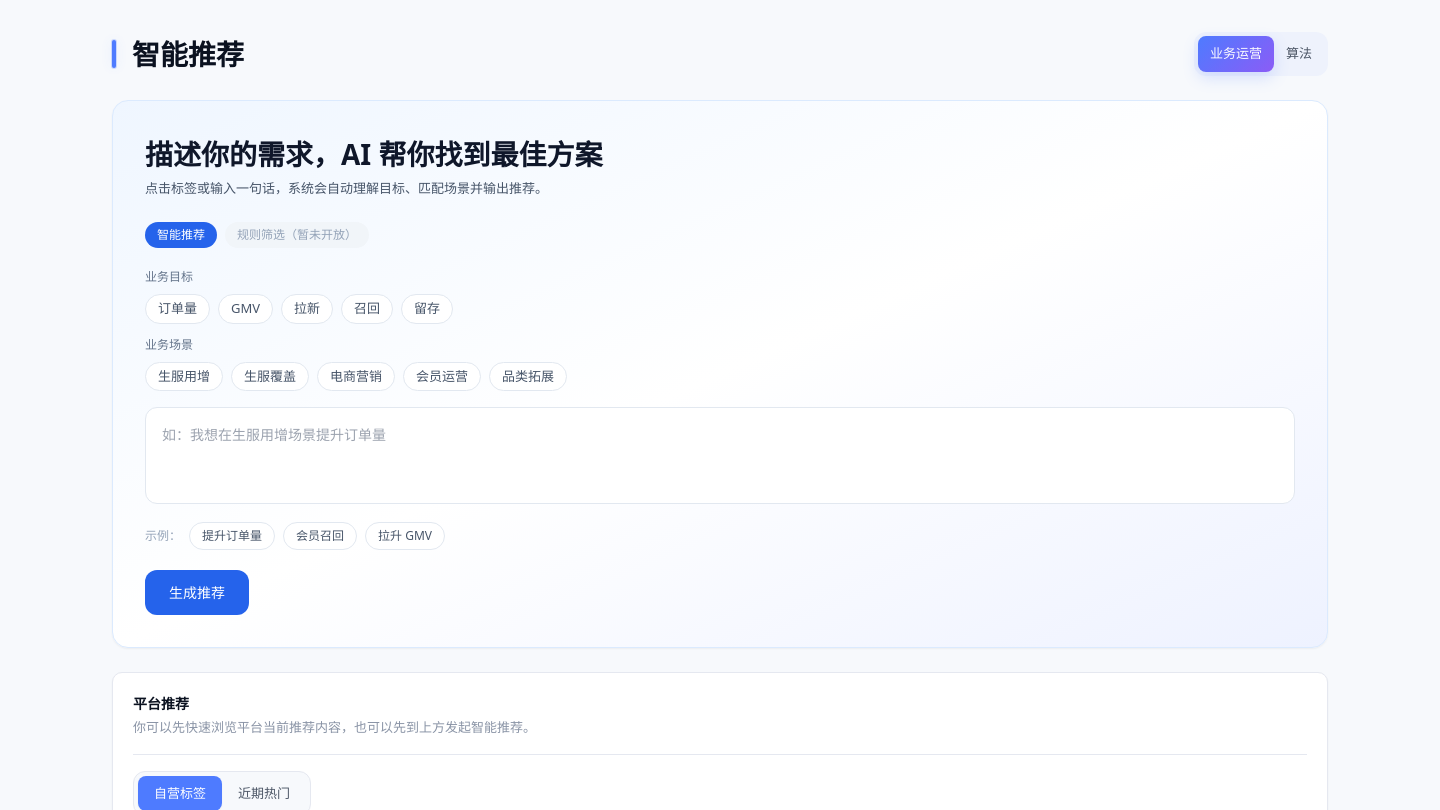
Test: MarketplacePage 单一推荐主链路 › 可切换到近期热门 tab，并将详情来源同步到平台上下文
Click the tab "近期热门" at x=264, y=793, box [222,776,306,809]
(page scrolled)
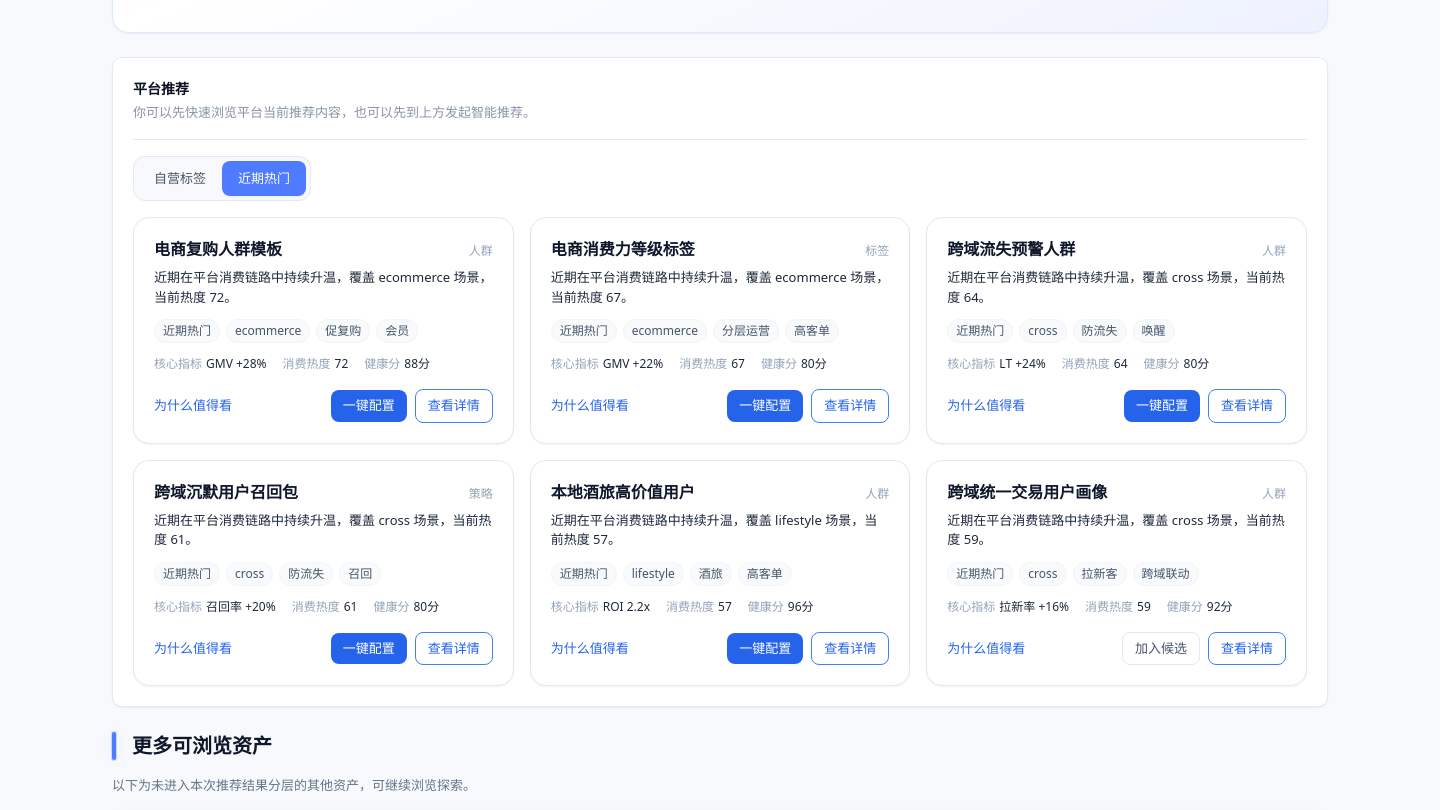
Result: the tab "近期热门" is selected at [222,160,306,196]
Click the 1st button "查看详情" at x=454, y=406, box [415,389,493,422]
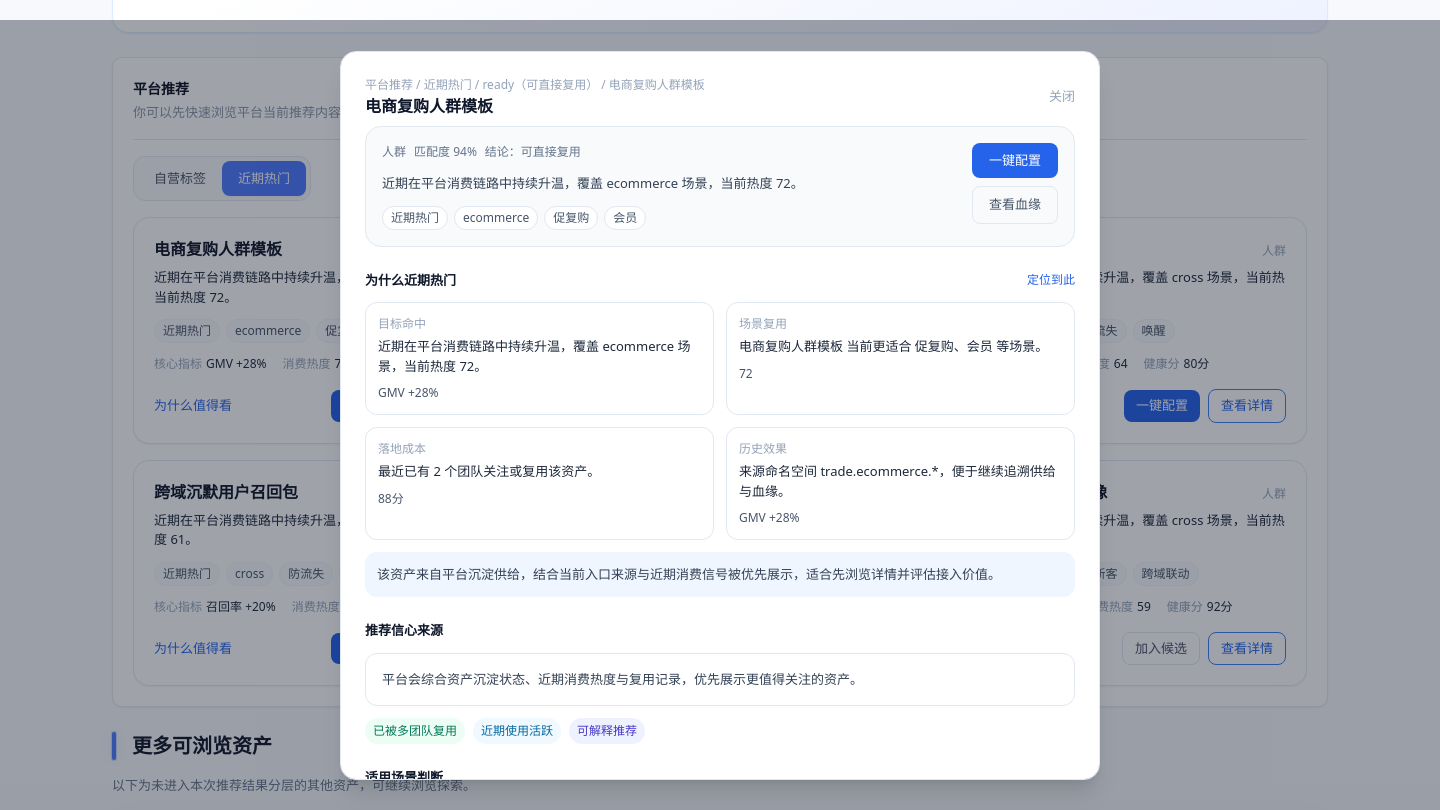
Result: the text "近期热门" is shown at [382,206,448,230]
Result: the heading "为什么近期热门" is shown at [365,271,456,290]
Result: the text "平台推荐 / 近期热门 / ready（可直接复用） / 电商复购人群模板" is shown at [365,76,705,94]
